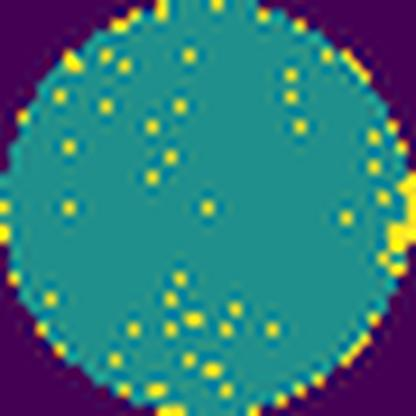Edge-Loc: (376, 164, 415, 288)
